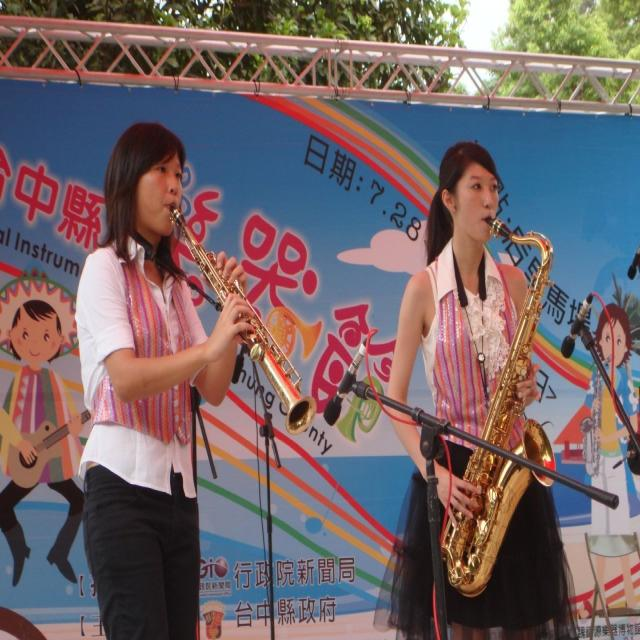saxophone: (444, 217, 556, 598)
